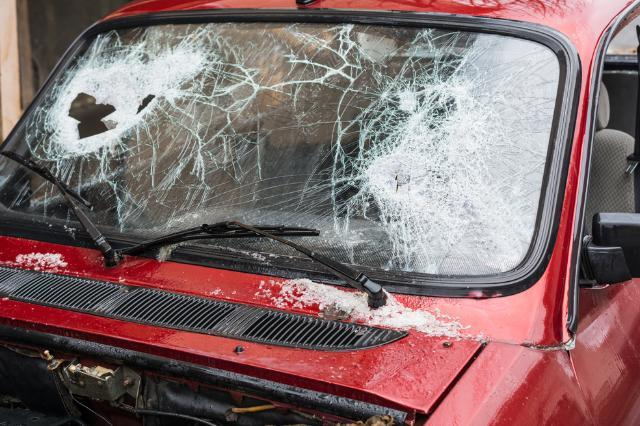Bonnet: (0, 237, 482, 426)
Windshield: (16, 18, 565, 297)
